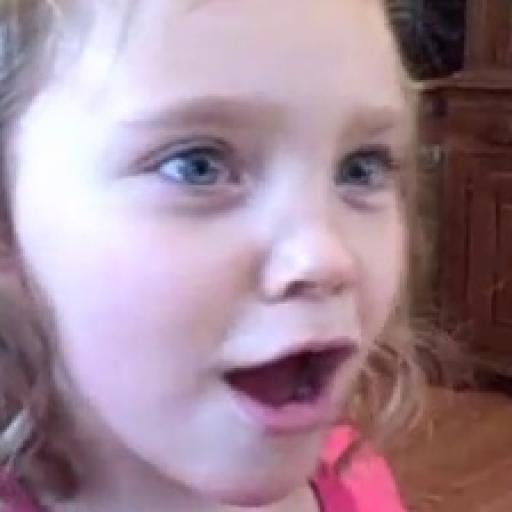Autism: (5, 0, 450, 512)
